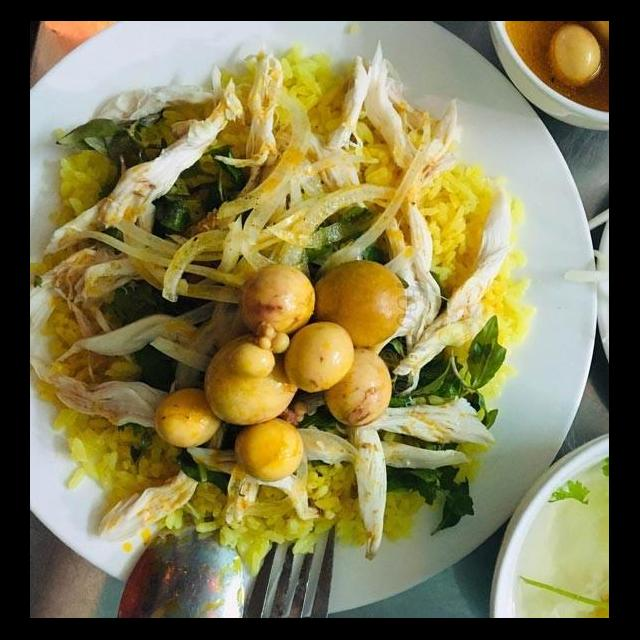com: (157, 456, 430, 580), (34, 374, 186, 509), (410, 158, 504, 292), (264, 47, 364, 152), (472, 246, 544, 356), (44, 146, 116, 235)
com ga: (31, 55, 528, 618)
rau ram: (380, 312, 510, 438), (52, 104, 176, 204), (144, 144, 254, 240), (378, 454, 480, 540), (294, 204, 392, 282)
thit ga: (41, 75, 250, 262), (346, 394, 498, 564), (391, 188, 518, 384), (320, 32, 468, 188), (178, 434, 322, 532), (46, 200, 160, 310), (96, 462, 205, 542), (50, 372, 180, 434)
trung: (200, 322, 304, 430), (310, 258, 412, 358), (236, 260, 322, 342), (324, 342, 396, 430), (280, 316, 358, 396), (230, 412, 306, 483), (152, 386, 228, 450), (542, 22, 610, 86)
